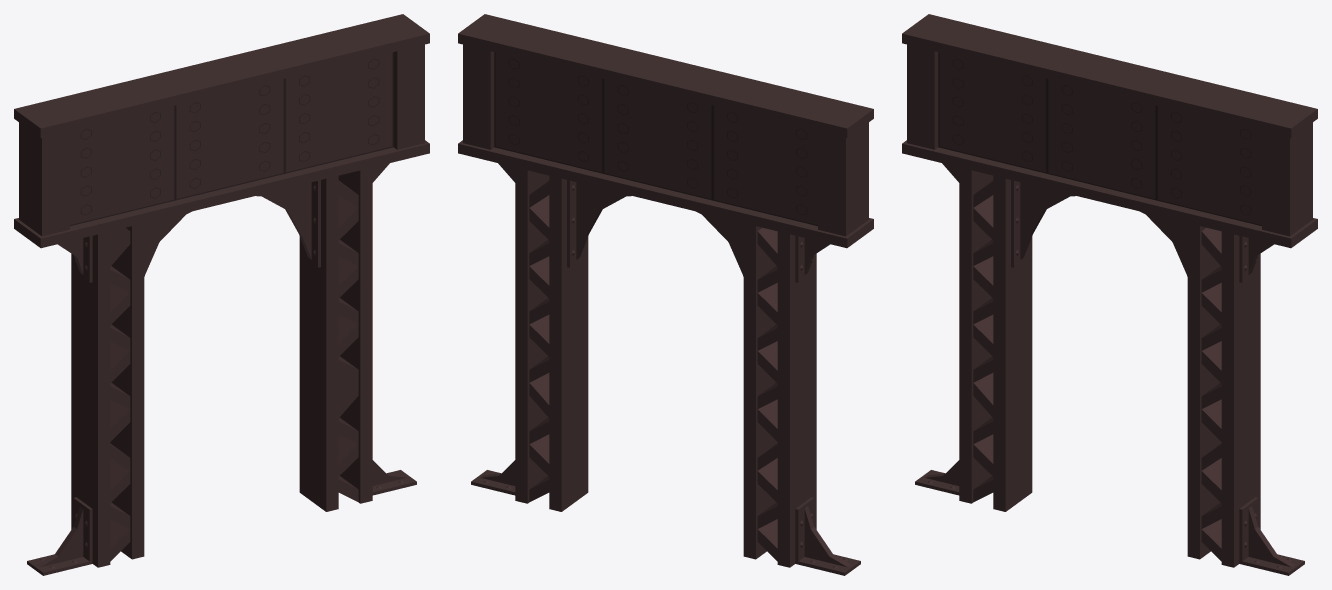
The model's file is SW_ENV_EL_TrackSupport_Upper_Single.fbx.
3 views of the same model, side by side, from view 1: azimuth 30°, elevation 25°; view 2: azimuth 150°, elevation 25°; view 3: azimuth 330°, elevation 25° (orthographic).
Visible parts, largest first — view 1: SW_ENV_EL_TrackSupport_Upper_Single; view 2: SW_ENV_EL_TrackSupport_Upper_Single; view 3: SW_ENV_EL_TrackSupport_Upper_Single.
Part boxes in pixels (left/top/right/bottom): SW_ENV_EL_TrackSupport_Upper_Single: left=14, top=14, right=429, bottom=575; SW_ENV_EL_TrackSupport_Upper_Single: left=458, top=14, right=873, bottom=575; SW_ENV_EL_TrackSupport_Upper_Single: left=902, top=14, right=1317, bottom=575.
Size of the model in its own units: 629 by 700 by 75.
